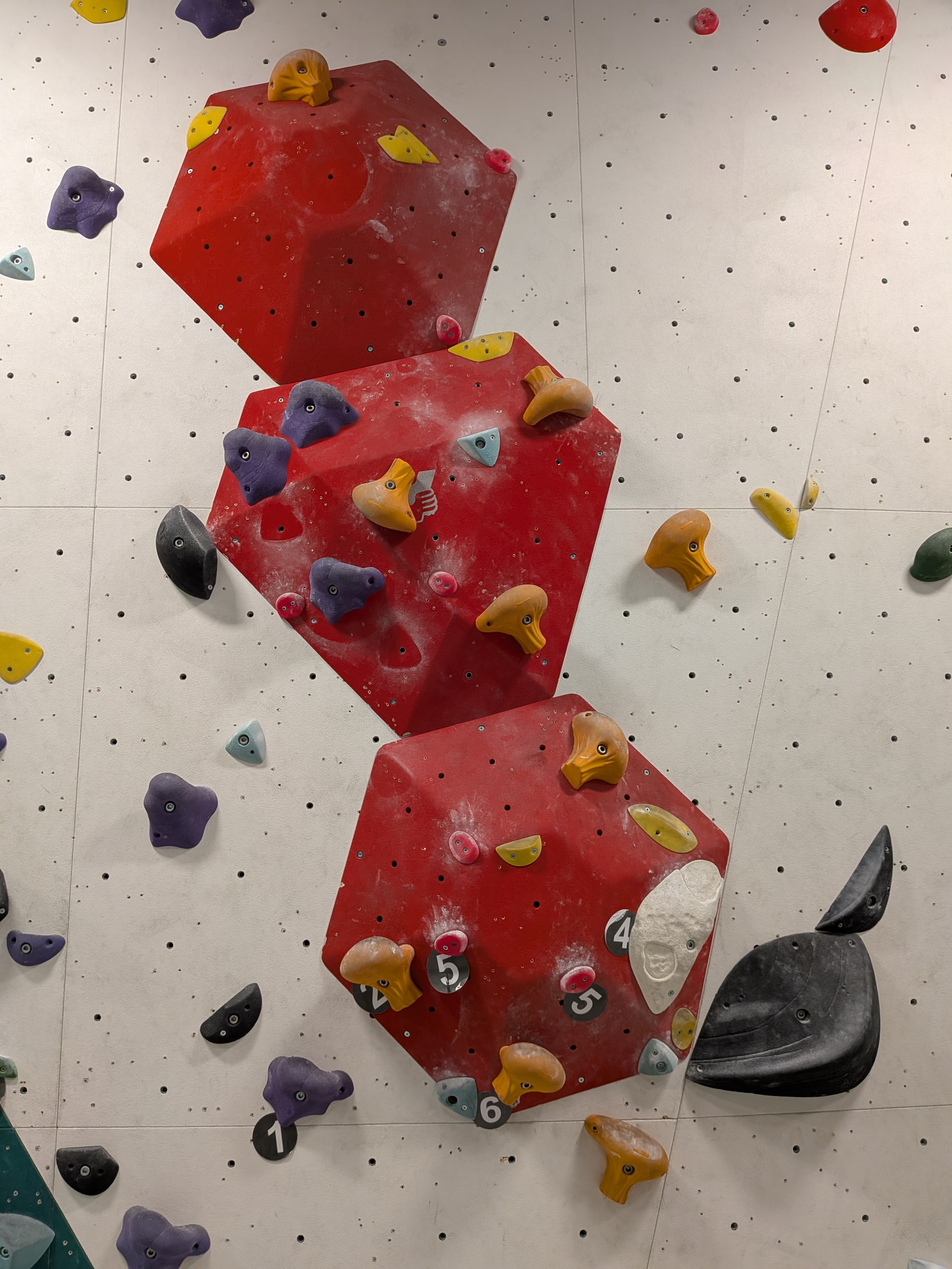hold: (686, 931, 879, 1096), (628, 861, 723, 1013), (816, 825, 893, 934), (585, 1114, 668, 1205), (263, 1056, 354, 1128), (340, 936, 421, 1010), (116, 1206, 210, 1269), (645, 509, 716, 591), (156, 505, 217, 599), (143, 773, 217, 849), (280, 379, 359, 448), (48, 166, 123, 238), (223, 428, 291, 505), (561, 711, 628, 789), (310, 557, 385, 624), (476, 584, 547, 654), (352, 458, 416, 532), (493, 1042, 565, 1106), (523, 365, 593, 425), (818, 0, 896, 53), (201, 983, 262, 1044), (268, 49, 332, 106), (628, 804, 697, 853), (56, 1146, 119, 1195), (0, 1213, 54, 1269), (175, 0, 254, 38), (750, 488, 799, 539), (378, 127, 439, 164), (0, 631, 43, 683), (910, 528, 952, 581), (7, 930, 64, 966), (448, 332, 514, 363), (436, 1077, 477, 1120), (187, 106, 227, 150), (226, 720, 265, 765), (638, 1038, 678, 1076), (457, 430, 499, 466), (497, 835, 541, 867), (71, 0, 127, 23), (0, 247, 35, 280), (671, 1008, 696, 1049), (449, 831, 479, 864), (560, 966, 595, 994), (275, 592, 306, 620), (436, 314, 463, 345), (434, 930, 467, 954), (428, 571, 458, 595), (485, 148, 512, 174), (693, 8, 719, 35), (800, 476, 818, 509), (0, 870, 9, 921), (0, 1055, 18, 1078), (779, 514, 779, 514)
volume: (317, 690, 733, 1125), (197, 330, 625, 738), (147, 58, 520, 384)
